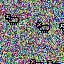sheep: (5, 13, 20, 26), (35, 22, 50, 33)
